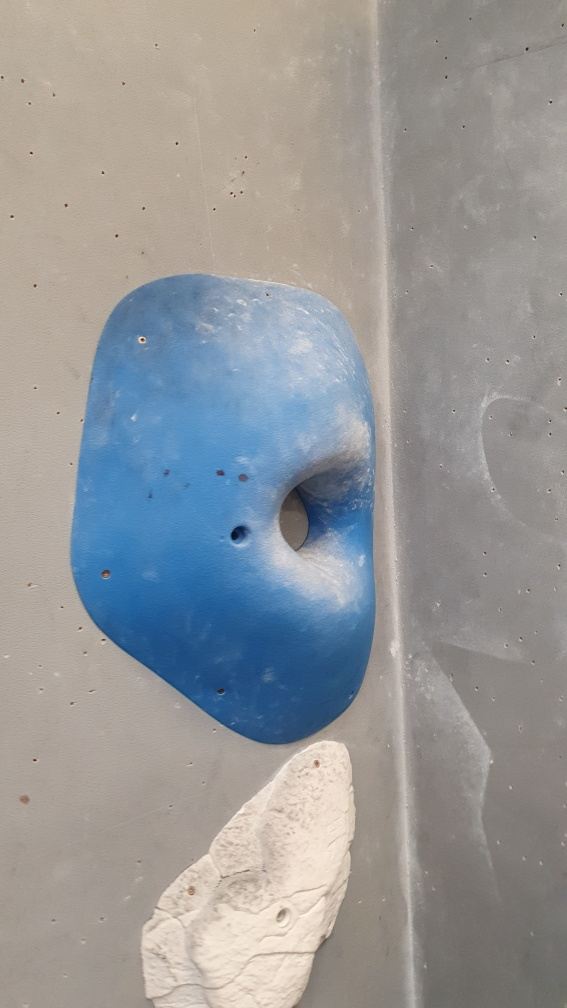Pocket: (65, 271, 376, 752)
